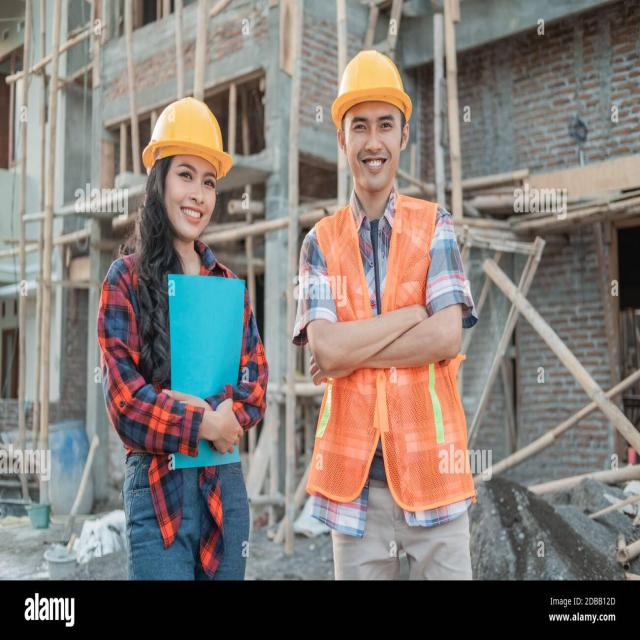helmet: (142, 91, 236, 183), (330, 50, 413, 128)
vest: (306, 191, 479, 511)
